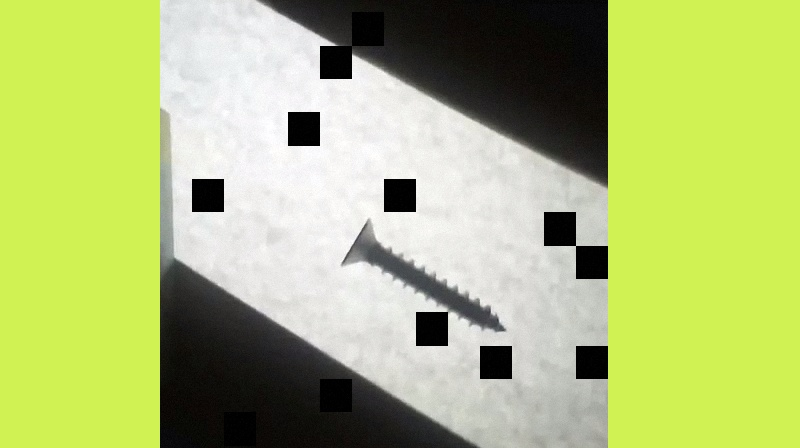S001: (336, 213, 506, 341)
